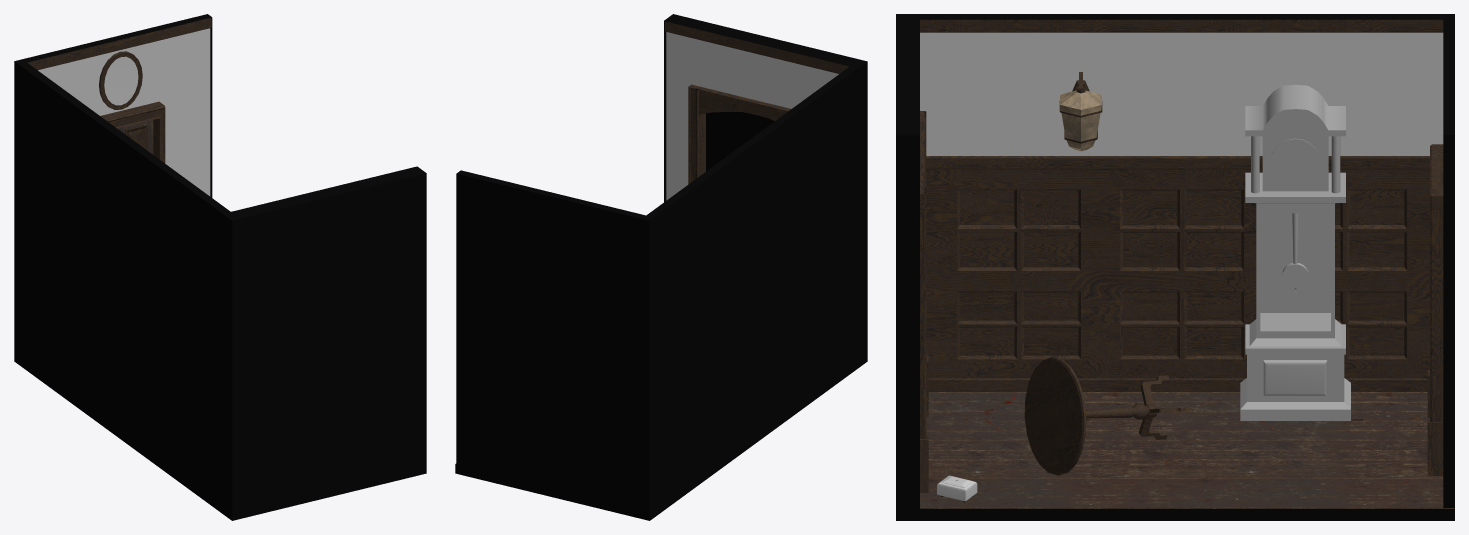
The model's file is hallway.fbx.
3 views of the same model, side by side, from view 1: azimuth 30°, elevation 25°; view 2: azimuth 150°, elevation 25°; view 3: azimuth 270°, elevation 25° (orthographic). The views are drawn at different scales.
Parts seen in each view (by area): view 1: boundingBox, sideWall, floor, portraitFrame, doorFrame, door; view 2: boundingBox, archWall, floor, arc; view 3: wall, floor, clock, boundingBox, sideTable, doorFrame, arc, wallLight, chest, sideWall.
Boxes of the visible parts, bbox=[...] form: boundingBox: bbox=[14, 14, 426, 511]; sideWall: bbox=[27, 17, 211, 196]; floor: bbox=[14, 352, 426, 520]; portraitFrame: bbox=[99, 51, 142, 109]; doorFrame: bbox=[106, 106, 165, 163]; door: bbox=[118, 120, 153, 154]; boundingBox: bbox=[456, 14, 867, 511]; archWall: bbox=[665, 21, 849, 200]; floor: bbox=[455, 352, 867, 520]; arc: bbox=[688, 84, 791, 184]; wall: bbox=[920, 19, 1443, 391]; floor: bbox=[896, 392, 1454, 520]; clock: bbox=[1240, 84, 1350, 420]; boundingBox: bbox=[896, 14, 1454, 508]; sideTable: bbox=[1024, 357, 1190, 475]; doorFrame: bbox=[1427, 145, 1443, 475]; arc: bbox=[920, 111, 928, 492]; wallLight: bbox=[1059, 72, 1102, 151]; chest: bbox=[937, 475, 977, 502]; sideWall: bbox=[1431, 144, 1443, 195].
Bounding box in the file's own units: 210 × 310 × 408.
